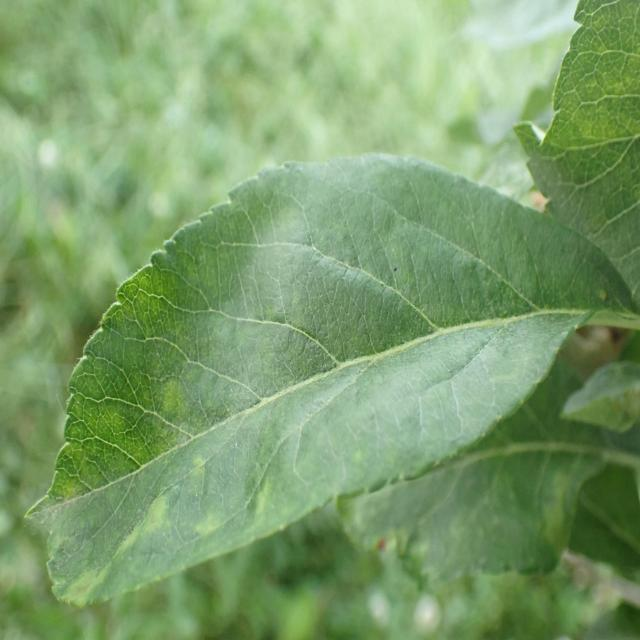scab: (42, 223, 464, 601)
